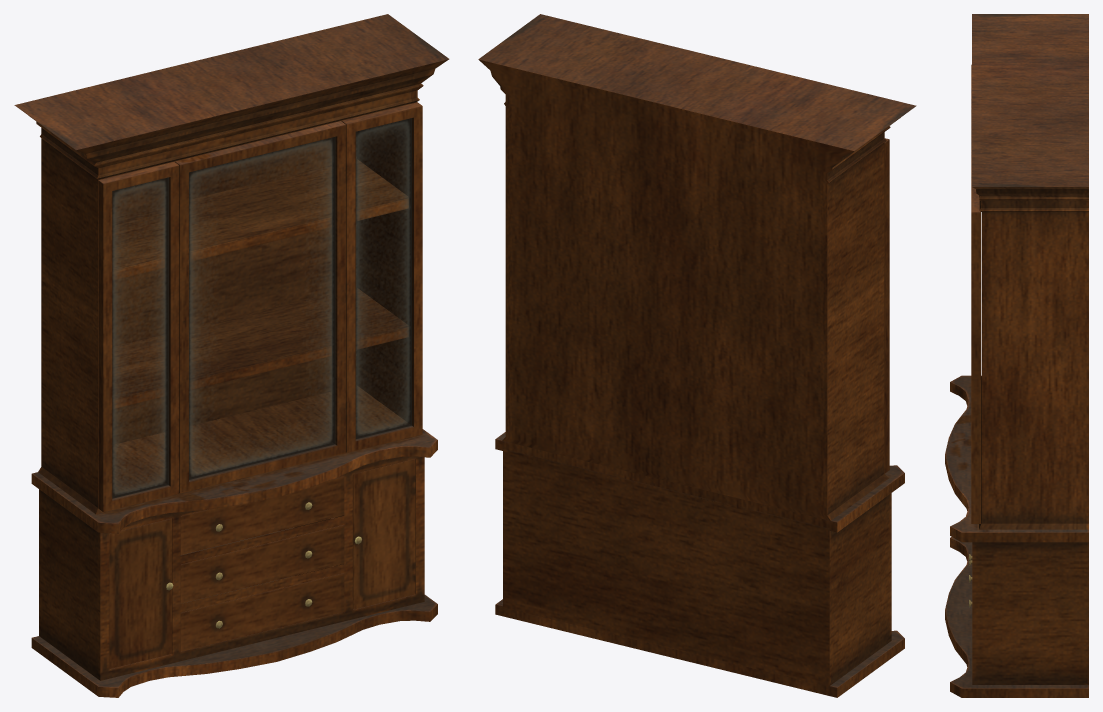
The model's file is old_china_cabinet.glb.
The picture shows the model from 3 angles, left to right: view 1: azimuth 30°, elevation 25°; view 2: azimuth 150°, elevation 25°; view 3: azimuth 270°, elevation 25°; orthographic projection. The views are drawn at different scales.
Parts seen in each view (by area): view 1: Main Body - Low Poly, Glass Front - Low Poly, Glass Front - Low Poly.001, Right Cabinet - Low Poly, Left Cabinet - Low Poly, Middle Drawer - Low Poly, Bottom Drawer - Low Poly, Top Drawer - Low Poly; view 2: Main Body - Low Poly, Glass Front - Low Poly; view 3: Main Body - Low Poly, Glass Front - Low Poly.
Boxes of the visible parts, box(x1,y1,x2,y2) form: Main Body - Low Poly: box(14, 14, 449, 697); Glass Front - Low Poly: box(98, 102, 422, 511); Glass Front - Low Poly.001: box(112, 118, 411, 498); Right Cabinet - Low Poly: box(353, 459, 415, 609); Left Cabinet - Low Poly: box(109, 518, 173, 669); Middle Drawer - Low Poly: box(180, 517, 344, 603); Bottom Drawer - Low Poly: box(180, 566, 344, 651); Top Drawer - Low Poly: box(180, 476, 344, 554); Main Body - Low Poly: box(478, 14, 916, 697); Glass Front - Low Poly: box(884, 138, 889, 473); Main Body - Low Poly: box(945, 14, 1088, 697); Glass Front - Low Poly: box(971, 64, 980, 523).
Size of the model in its own units: 1.44 by 2.02 by 0.5072.
Materials: 1 (1 with a texture image).
